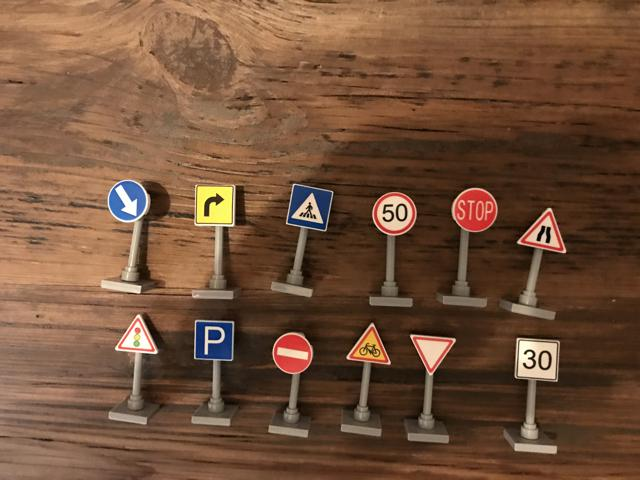fahrtrichtung rechts: (191, 181, 237, 229)
fußgängerüberweg: (285, 181, 333, 231)
lichtzeichenanlage: (113, 314, 159, 356)
parken: (191, 319, 236, 360)
radfahrer: (348, 325, 391, 366)
rechts halten: (107, 179, 150, 224)
stop: (448, 187, 499, 232)
tempolimit 30: (514, 337, 561, 385)
tempolimit 50: (371, 192, 417, 236)
verbot der einfahrt: (271, 331, 314, 376)
verengte fahrbahn: (516, 208, 568, 255)
vorfahrt gewähren: (411, 332, 457, 376)
